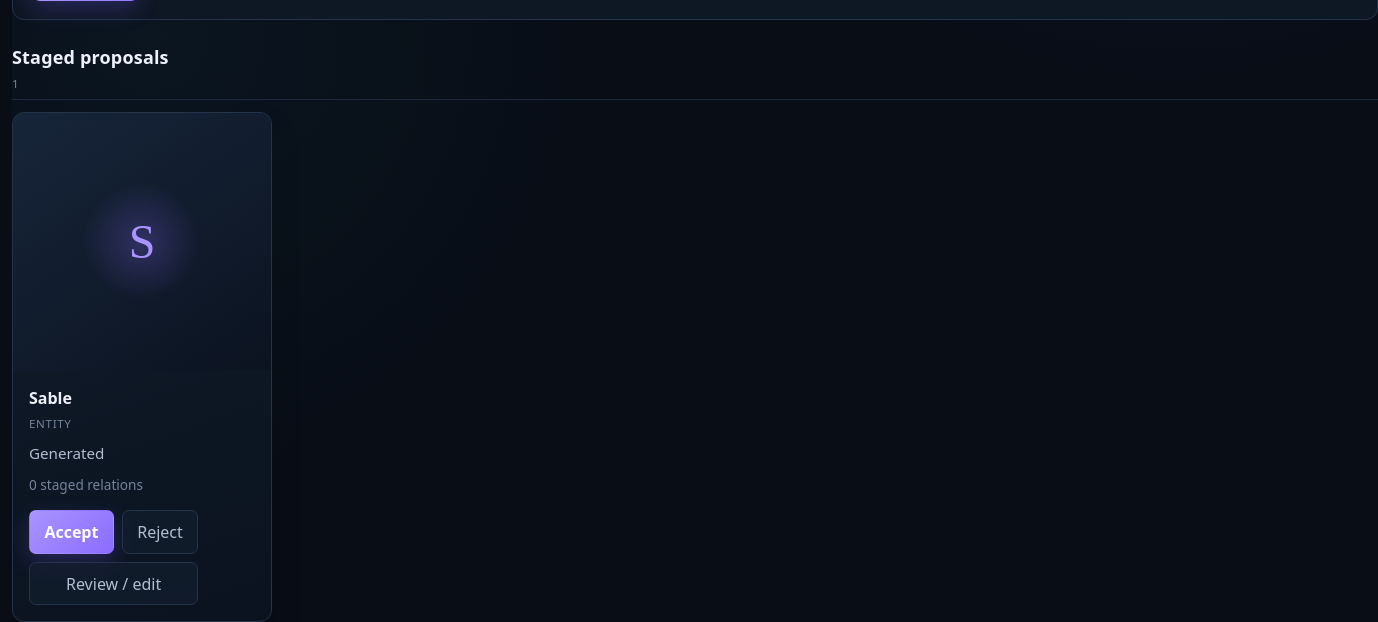
Test: Ask regeneration conflict recovery › cancel leaves the candidate proposed and sends no additional accept
(page scrolled)
Click the button "Accept" at (71, 532), box [29,510,114,554]
(page scrolled)
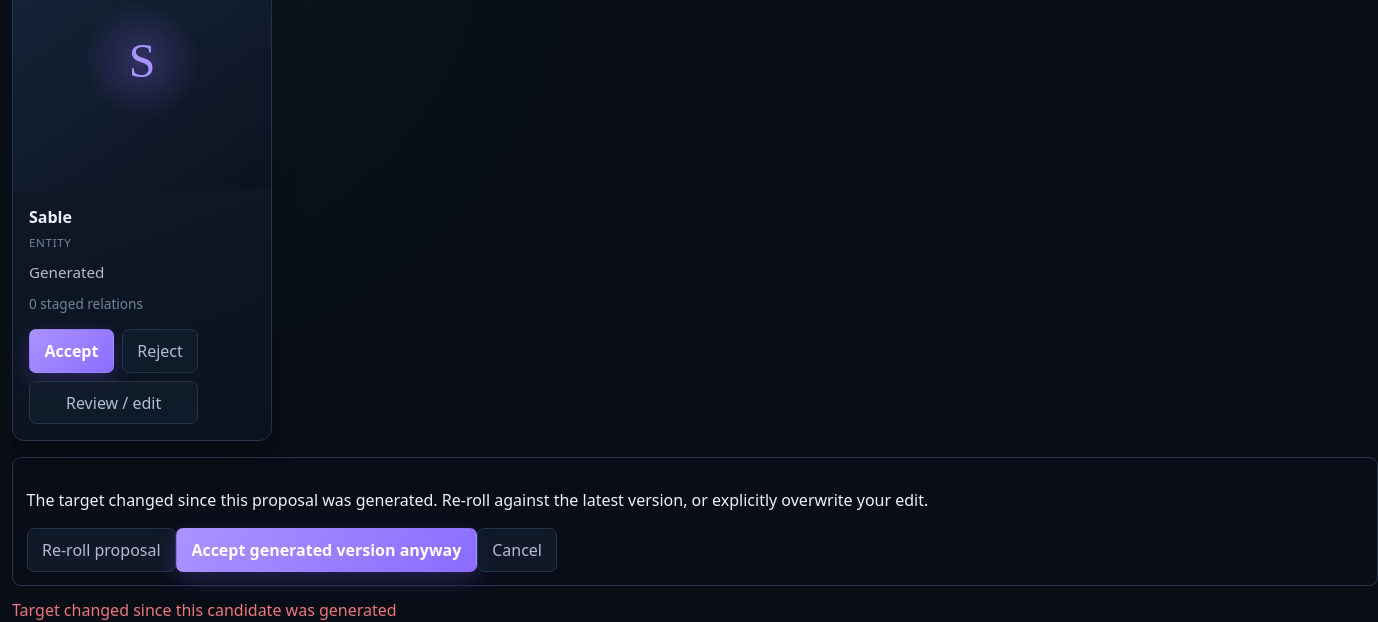
Click the button "Cancel" at (517, 550), box [477,528,557,572]
(page scrolled)
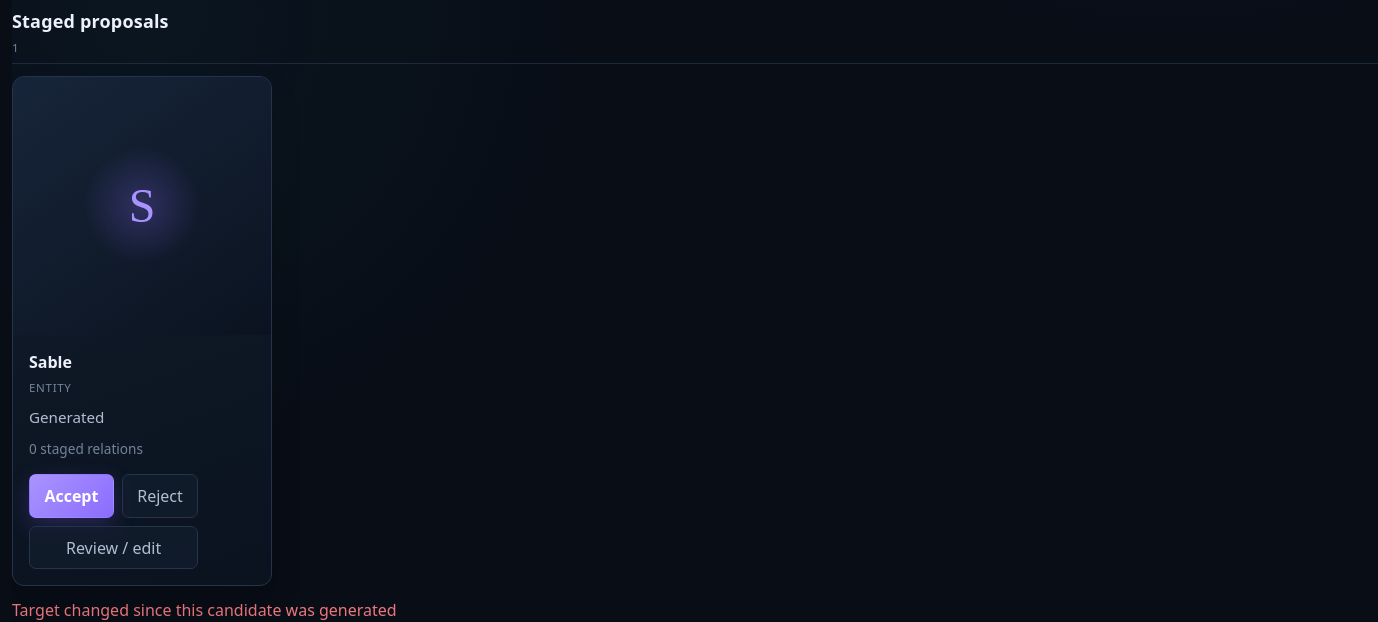
expect the text "Accept generated version anyway" is gone: met
